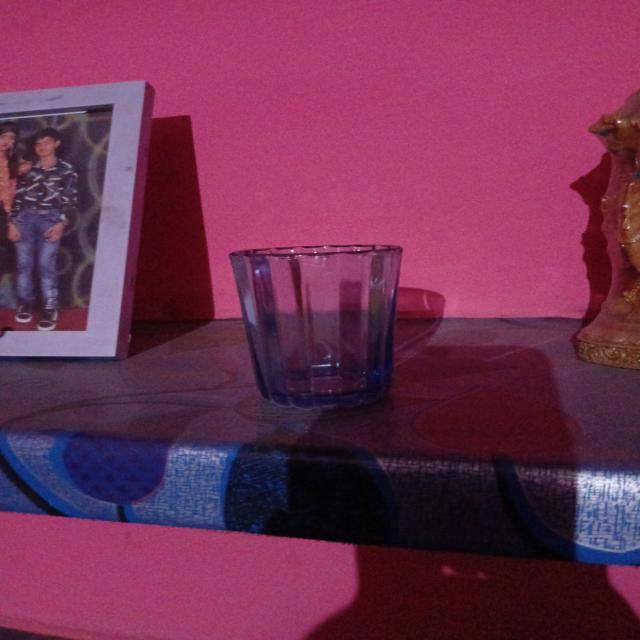Glass: (224, 240, 406, 415)
